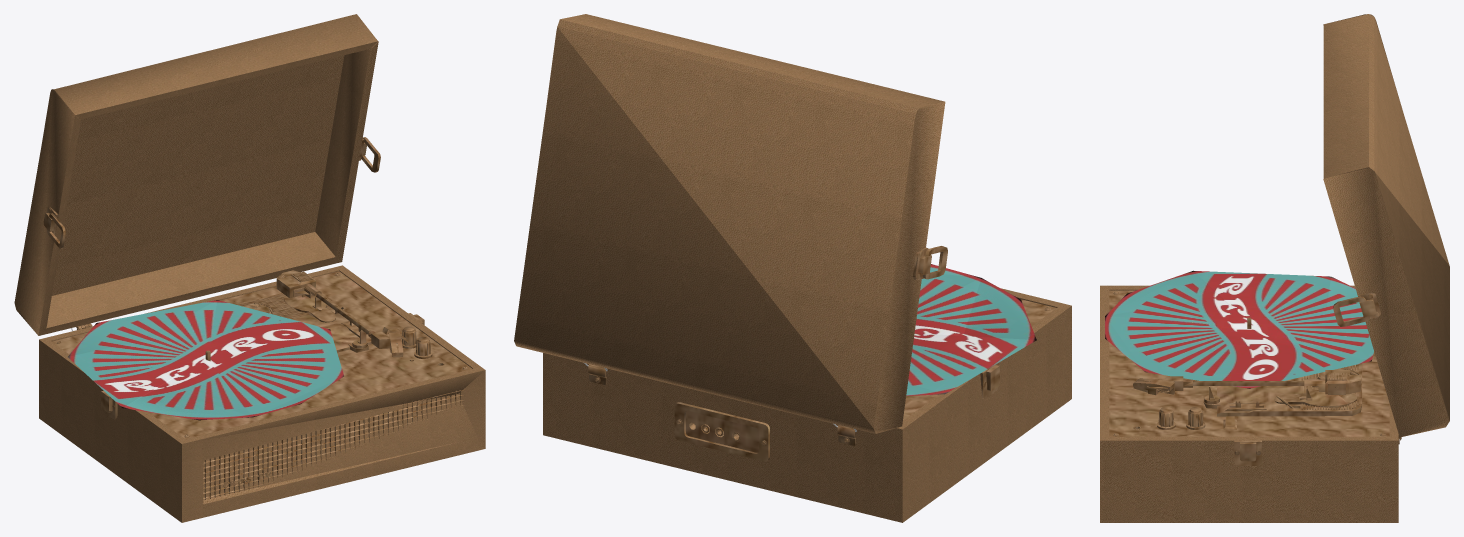
File: recordplayer.glb
The picture shows the model from 3 angles, left to right: view 1: azimuth 30°, elevation 25°; view 2: azimuth 150°, elevation 25°; view 3: azimuth 270°, elevation 25°; orthographic projection. The views are drawn at different scales.
Visible parts, largest first — view 1: Crosley_Bottom; view 2: Crosley_Bottom; view 3: Crosley_Bottom.
Boxes of the visible parts, x1,y1,x2,y2 form: Crosley_Bottom: (14,14,485,522); Crosley_Bottom: (514,14,1071,522); Crosley_Bottom: (1100,14,1449,522).
Size of the model in its own units: 0.3892 by 0.3967 by 0.3466.
Materials: 3 (2 with a texture image).
